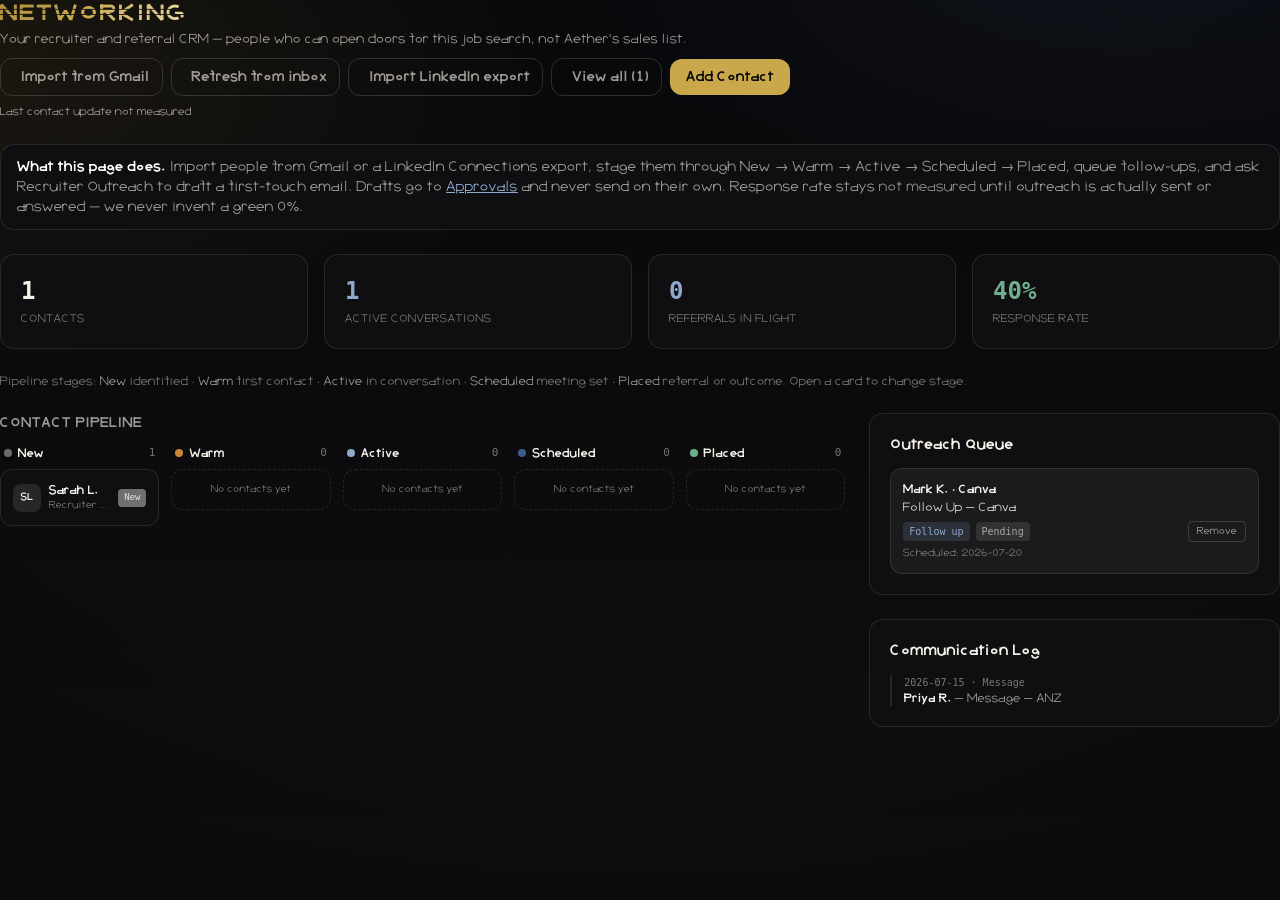
NetworkingPage — contact detail view (MV-networking-005) › opens a detail panel showing the stored contact fields when a contact card is clicked
Click the button with test id "contact-card": [80, 498] box left=0, top=469, right=160, bottom=526
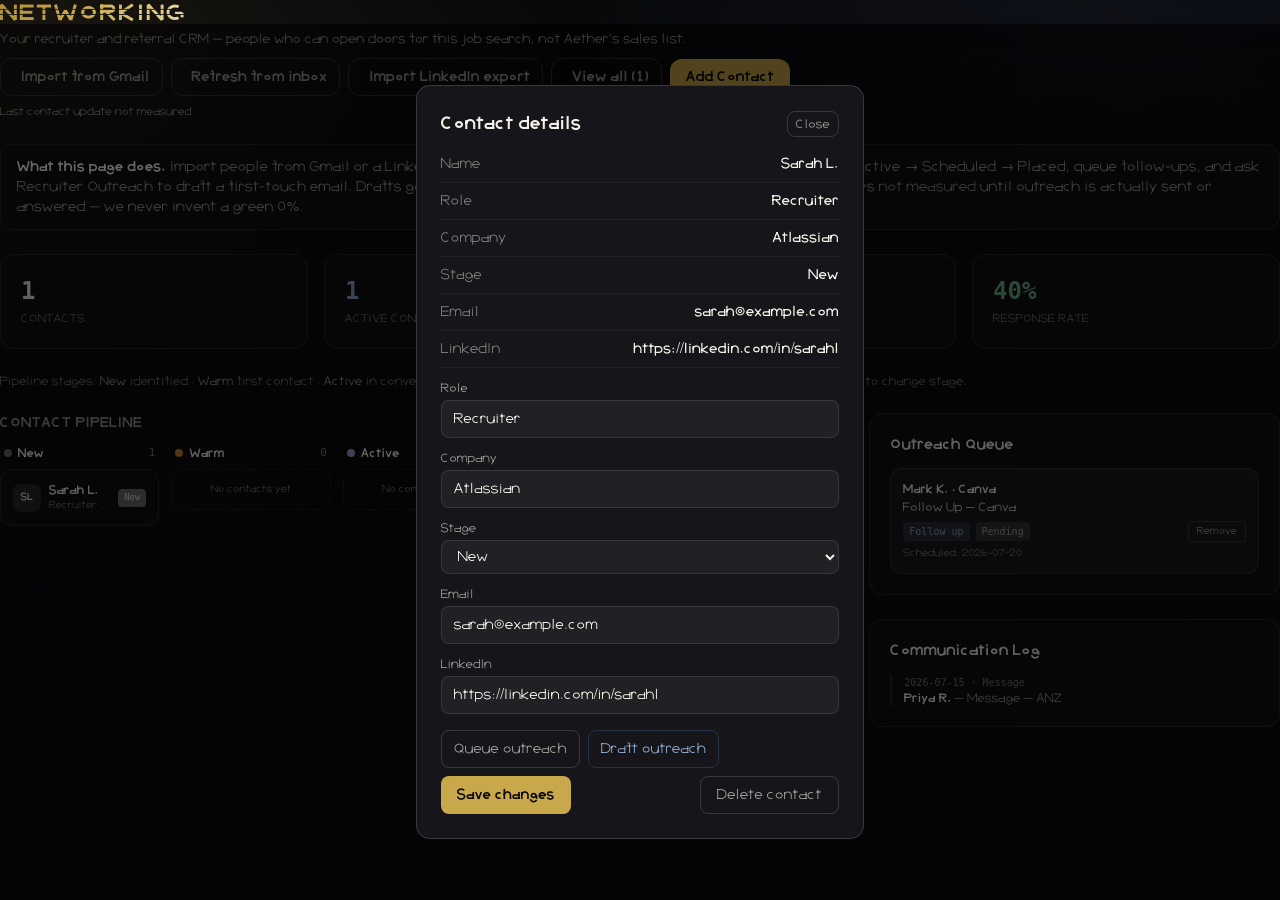
Now the element with test id "contact-detail-modal" is shown, box left=416, top=85, right=864, bottom=839
Now the element with test id "contact-detail-modal" shows "Sarah L.", box left=781, top=157, right=839, bottom=171
Now the element with test id "contact-detail-modal" shows "sarah@example.com", box left=695, top=305, right=839, bottom=319
